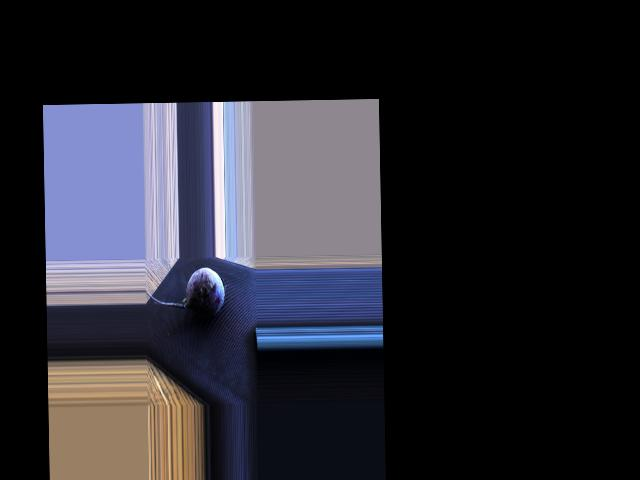beet: (145, 267, 225, 320)
